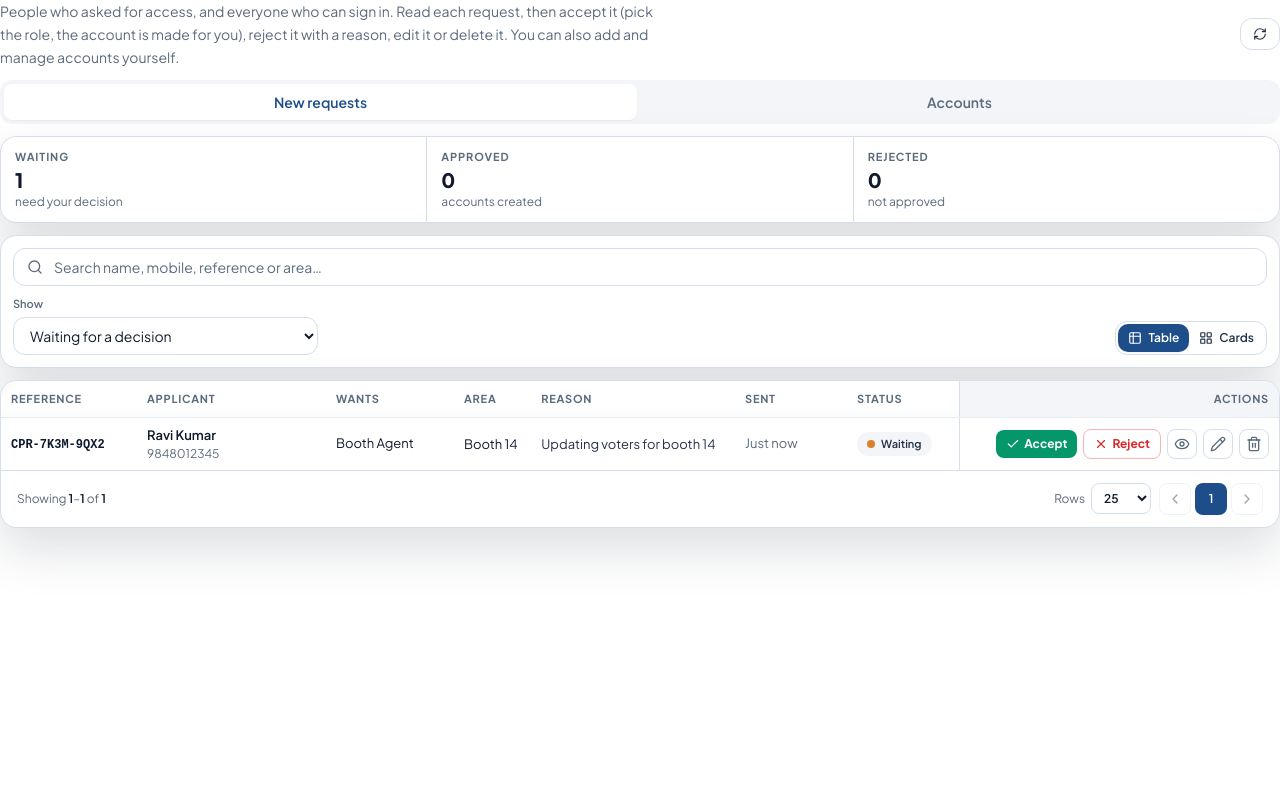
Super Admin: new requests › lists the request with Accept and Reject, and Accept asks for the role
This screenshot has width=1280, height=800.
Expected: the button "Reject" is shown, [1084,429,1161,459]
Click the button "Accept" at (1037, 444), box [996,430,1077,458]
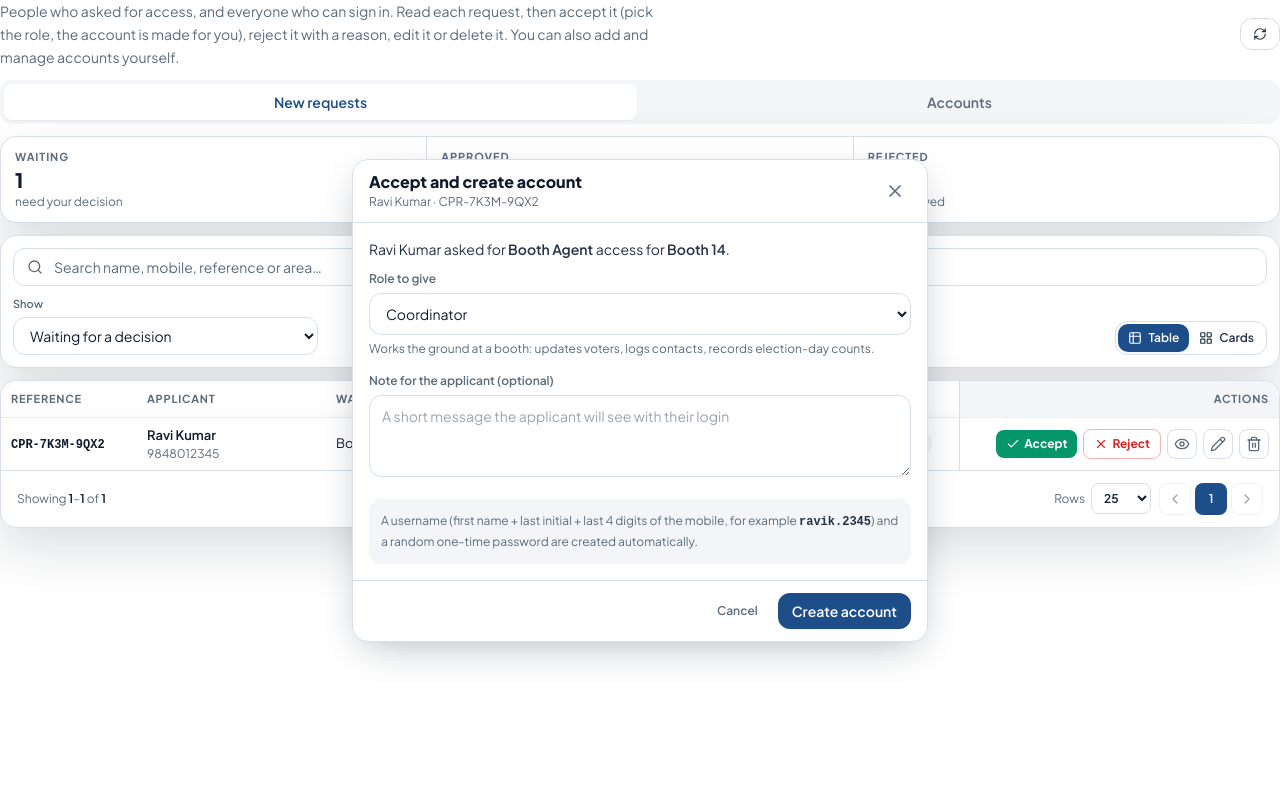
Now the text "Accept and create account" is shown, box [369,170,582,192]
Select "Coordinator" in the dropdown with id "role" at (640, 314), box [369,292,911,334]
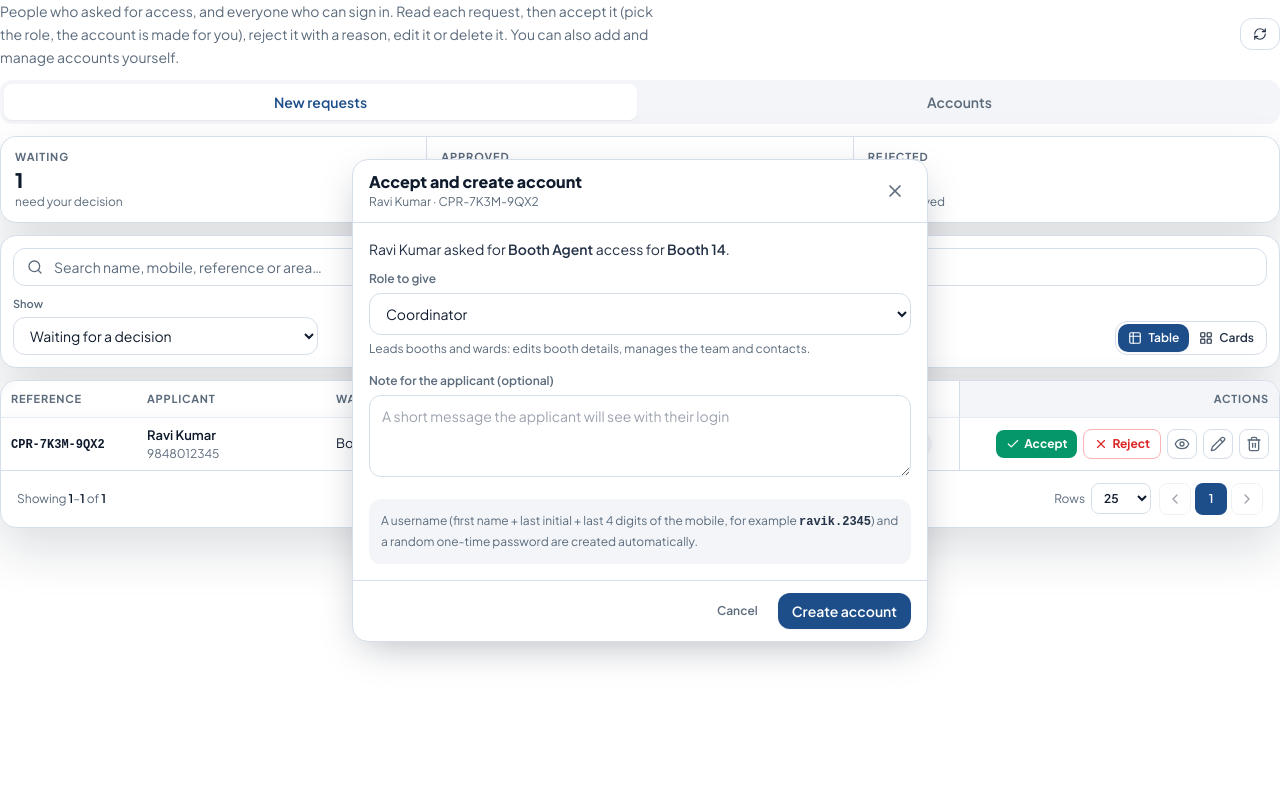
Click the button "Create account" at (844, 610), box [778,592,911,628]
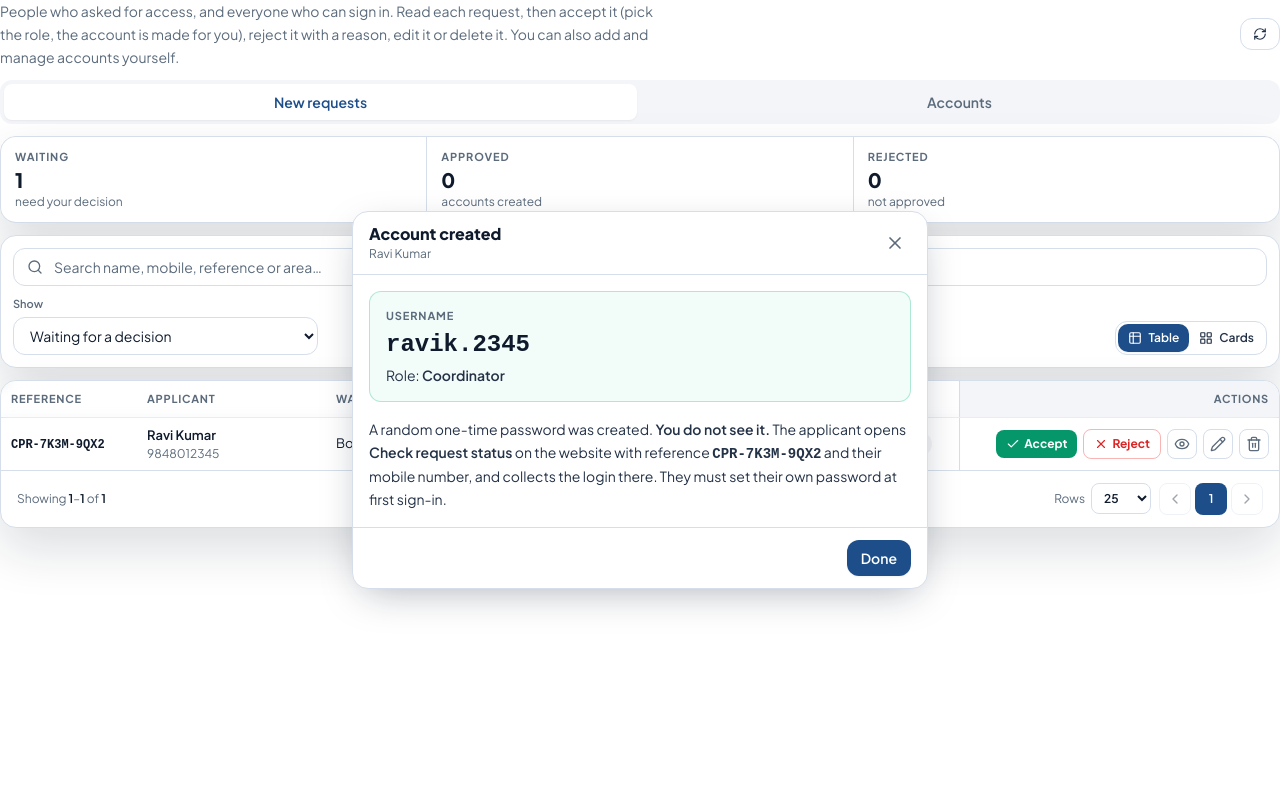
Now the text "ravik.2345" is shown, box [386,331,530,358]
Now the text "You do not see it" is shown, box [655,420,770,438]
